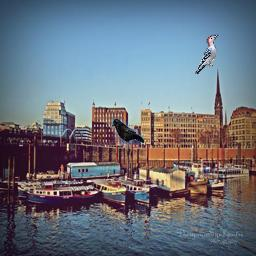Crow: (111, 118, 144, 149)
Woodpecker: (195, 34, 219, 74)
